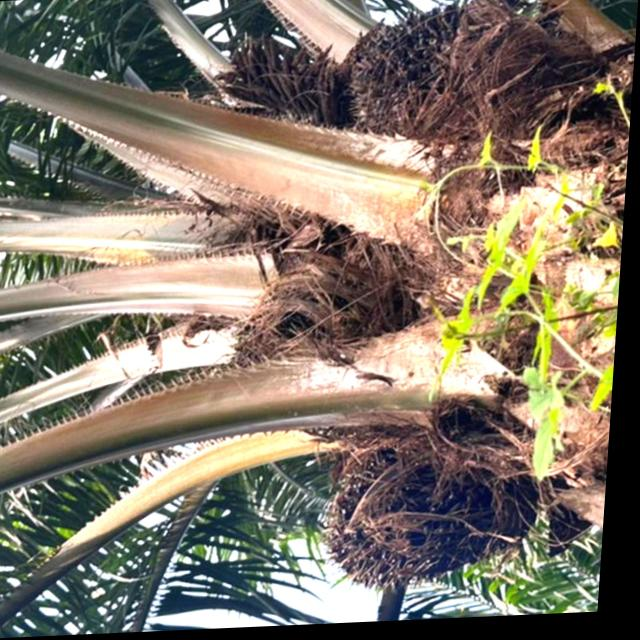unripe: (339, 0, 550, 158)
